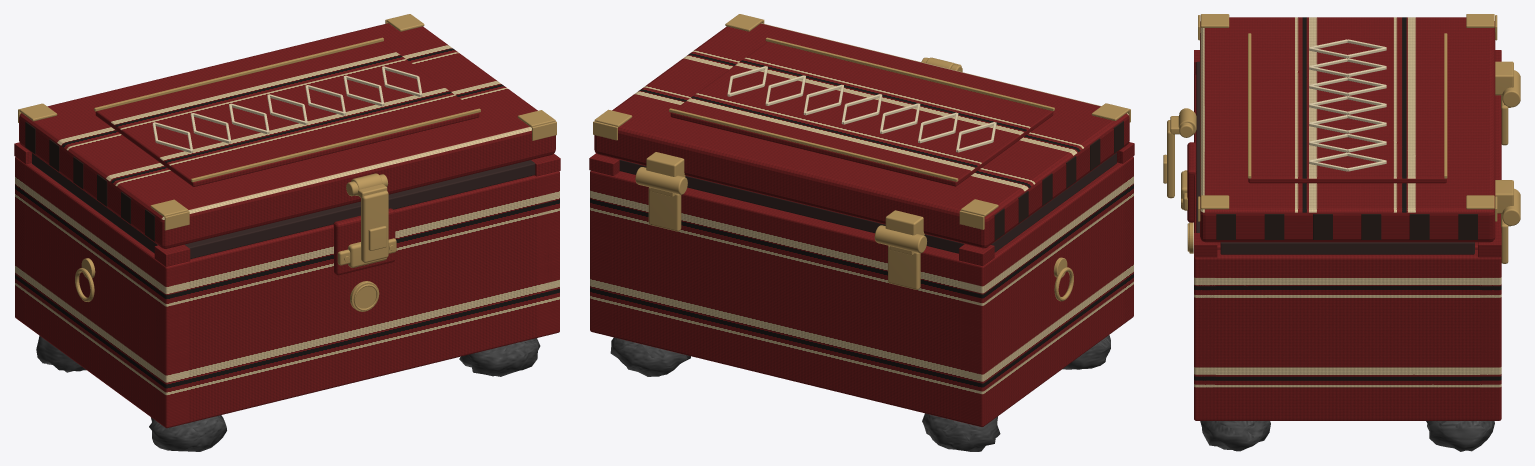
File: uae.glb
3 renders of one model, left to right at view 1: azimuth 30°, elevation 25°; view 2: azimuth 150°, elevation 25°; view 3: azimuth 270°, elevation 25°, orthographic.
Parts seen in each view (by area): view 1: Weave / long panel, Lid / polished slab, Weave / end panel, Loom / raised woven panel, Mineral seam / long, Weave / end panel.001, Granite foot, Granite foot.002, Weave / long panel.001, Latch / lifting hasp, Weave / clasp seat, Mineral seam / side (+5 smaller); view 2: Weave / long panel.001, Lid / polished slab, Weave / end panel, Loom / raised woven panel, Weave / end panel.001, Mineral seam / long.001, Granite foot.001, Granite foot.003, Weave / long panel, Mineral seam / side, Loom / brass border, Loom / brass border.001 (+9 smaller); view 3: Weave / end panel.001, Lid / polished slab, Loom / raised woven panel, Mineral seam / side.001, Weave / long panel.001, Weave / long panel, Granite foot.002, Granite foot.003, Weave / clasp seat, Mineral seam / long, Hinge / moving leaf, Loom / brass border (+17 smaller).
Boxes of the visible parts, bbox=[...] form: Weave / long panel: bbox=[155, 175, 558, 427]; Lid / polished slab: bbox=[19, 23, 555, 248]; Weave / end panel: bbox=[15, 157, 188, 428]; Loom / raised woven panel: bbox=[95, 41, 479, 186]; Mineral seam / long: bbox=[184, 160, 535, 258]; Weave / end panel.001: bbox=[538, 171, 559, 337]; Granite foot: bbox=[149, 415, 226, 451]; Granite foot.002: bbox=[459, 338, 540, 376]; Weave / long panel.001: bbox=[15, 157, 24, 324]; Latch / lifting hasp: bbox=[361, 190, 388, 262]; Weave / clasp seat: bbox=[333, 208, 395, 275]; Mineral seam / side: bbox=[32, 153, 157, 253]; Weave / long panel.001: bbox=[591, 171, 993, 426]; Lid / polished slab: bbox=[594, 23, 1129, 248]; Weave / end panel: bbox=[960, 159, 1133, 426]; Loom / raised woven panel: bbox=[670, 41, 1053, 186]; Weave / end panel.001: bbox=[590, 170, 611, 336]; Mineral seam / long.001: bbox=[619, 160, 964, 253]; Granite foot.001: bbox=[922, 413, 1000, 451]; Granite foot.003: bbox=[610, 337, 690, 376]; Weave / long panel: bbox=[1123, 156, 1133, 323]; Mineral seam / side: bbox=[991, 153, 1116, 252]; Loom / brass border: bbox=[765, 37, 1054, 111]; Loom / brass border.001: bbox=[669, 108, 958, 181]; Weave / end panel.001: bbox=[1194, 249, 1501, 420]; Lid / polished slab: bbox=[1200, 17, 1495, 242]; Loom / raised woven panel: bbox=[1248, 37, 1446, 183]; Mineral seam / side.001: bbox=[1220, 242, 1474, 254]; Weave / long panel.001: bbox=[1480, 95, 1501, 420]; Weave / long panel: bbox=[1194, 74, 1215, 420]; Granite foot.002: bbox=[1200, 421, 1270, 451]; Granite foot.003: bbox=[1426, 421, 1494, 451]; Weave / clasp seat: bbox=[1187, 142, 1196, 222]; Mineral seam / long: bbox=[1196, 61, 1199, 232]; Hinge / moving leaf: bbox=[1495, 61, 1513, 95]; Loom / brass border: bbox=[1248, 33, 1251, 178].
Bounding box in the file's own units: 3.79 × 2.36 × 2.88.
Materials: 6 (3 with a texture image).
